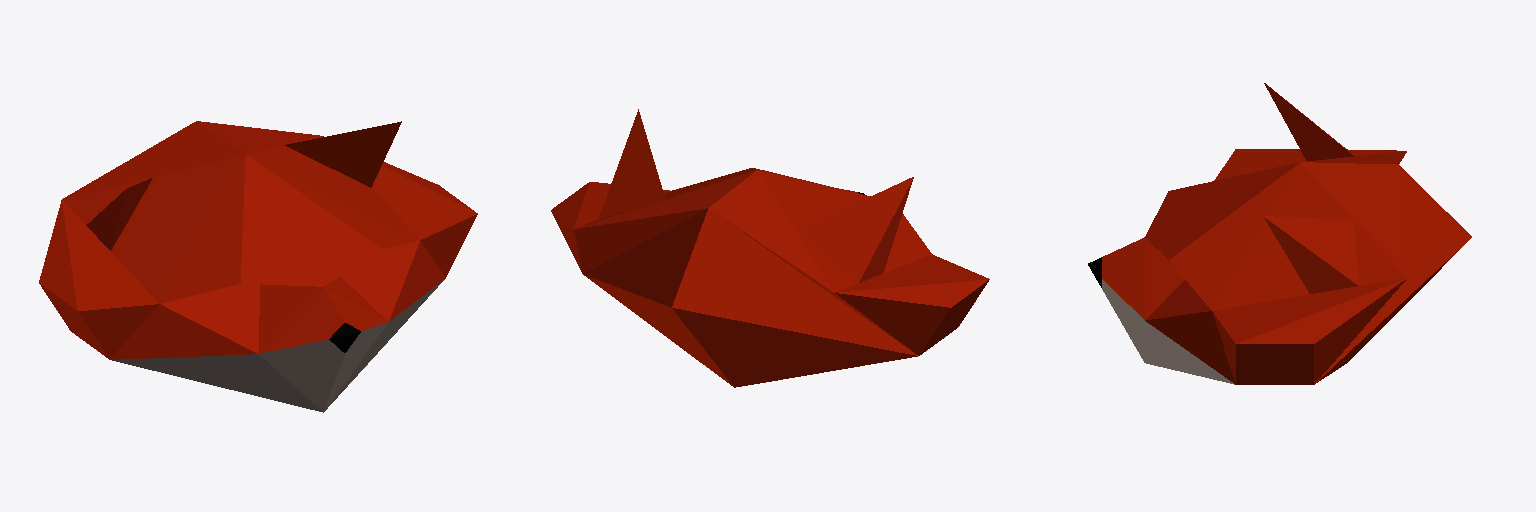
File: fox_face.obj
3 views of the same model, side by side, from view 1: azimuth 30°, elevation 25°; view 2: azimuth 150°, elevation 25°; view 3: azimuth 270°, elevation 25° (orthographic).
Parts seen in each view (by area): view 1: Cube.003, Cube.001; view 2: Cube.003; view 3: Cube.003, Cube.001.
Part boxes in pixels (x1,y1,x2,y2): Cube.003: (39, 121, 477, 359); Cube.001: (112, 278, 445, 412); Cube.003: (551, 109, 989, 387); Cube.003: (1102, 83, 1471, 384); Cube.001: (1102, 279, 1234, 384).
Bounding box in the file's own units: 4.63 × 2.37 × 3.85.